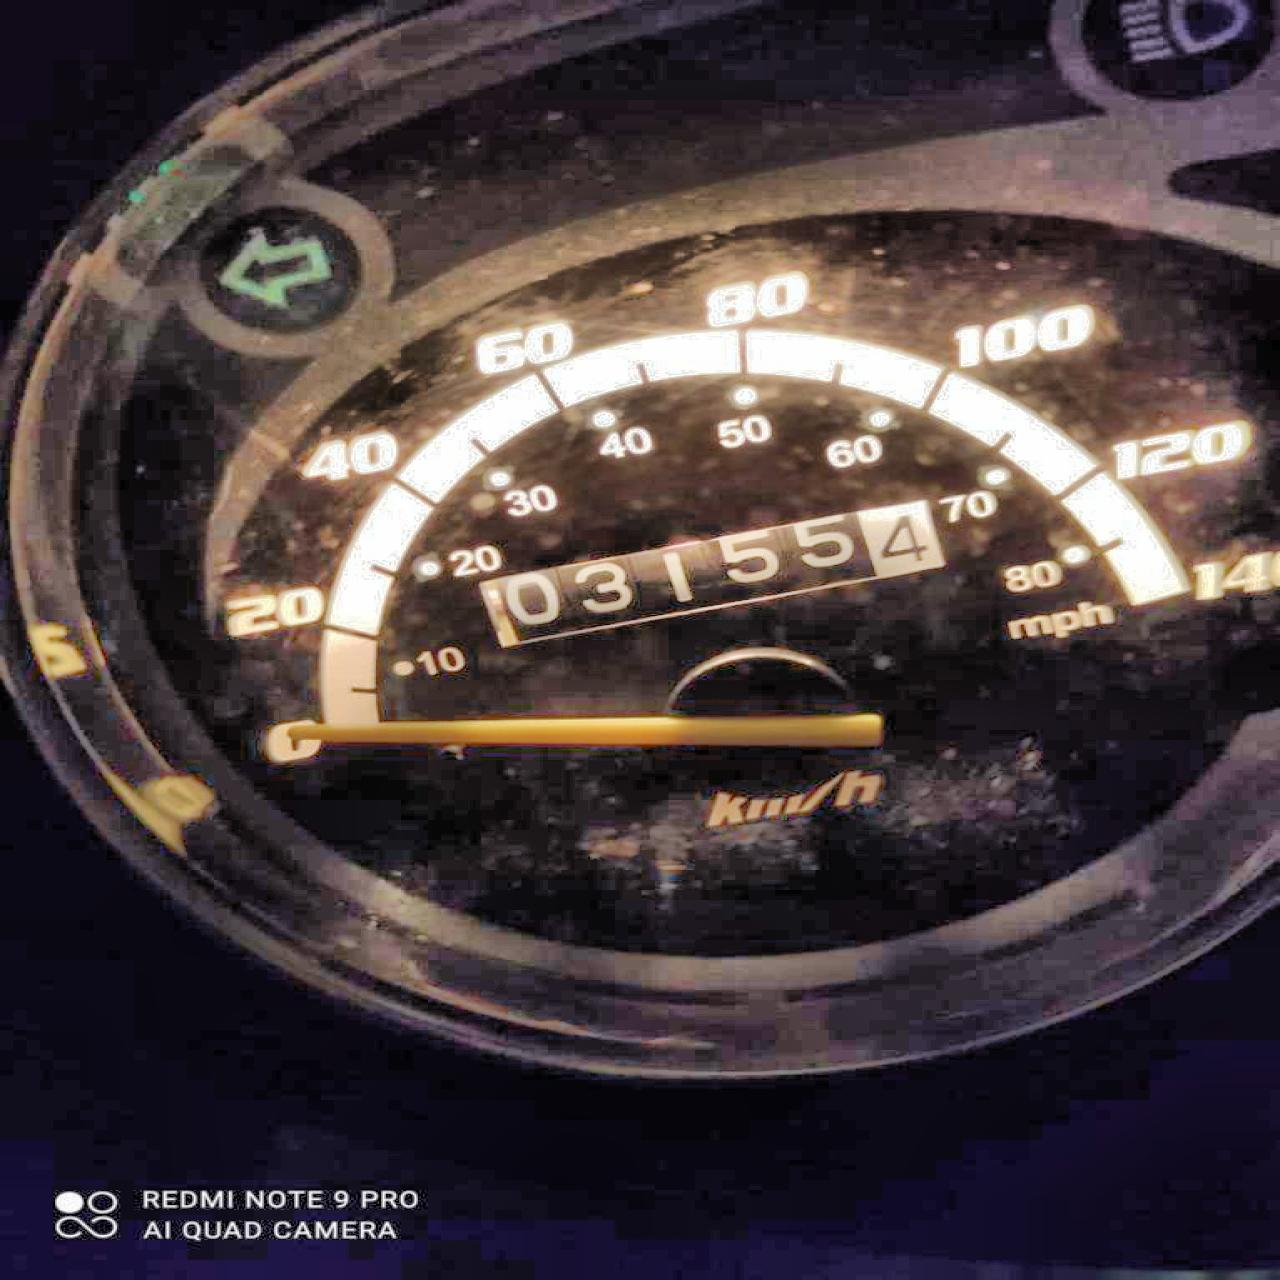0: (502, 571, 561, 625), (471, 544, 502, 572), (524, 492, 561, 511)
1: (652, 545, 695, 605)
3: (570, 558, 633, 613), (503, 493, 530, 516)
4: (872, 512, 933, 564)
5: (715, 527, 781, 584), (790, 512, 856, 567)
odometer: (464, 493, 953, 652)
